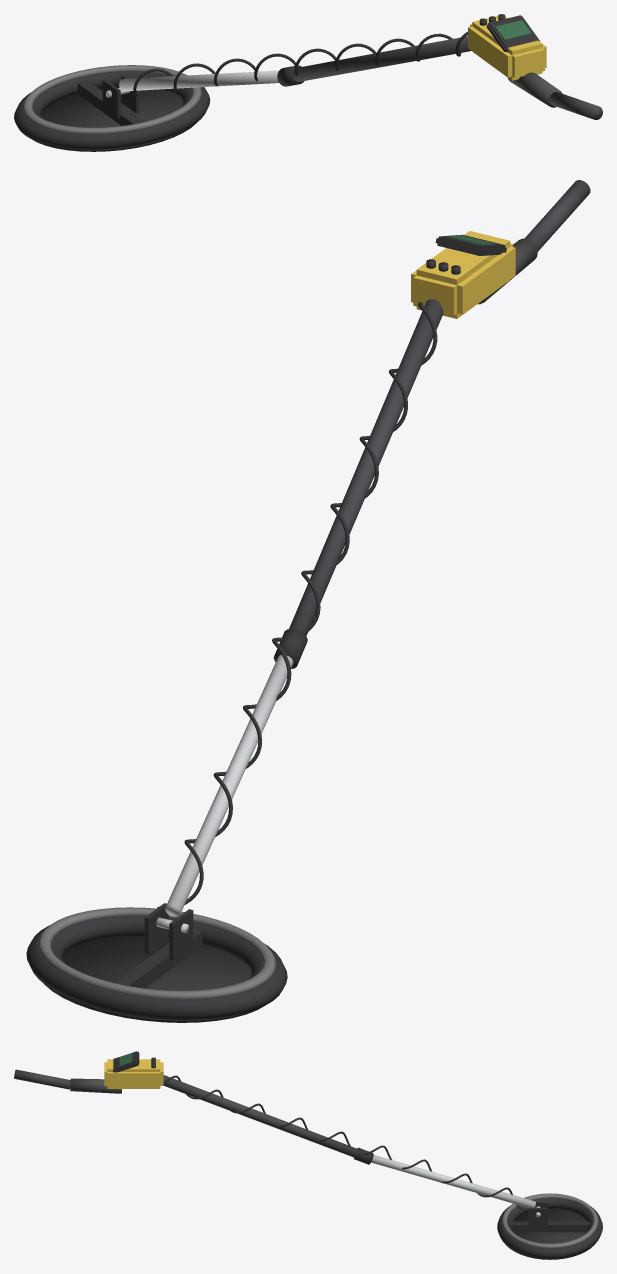
The model's file is detector.glb.
3 renders of one model, top to bottom at view 1: azimuth 30°, elevation 25°; view 2: azimuth 150°, elevation 25°; view 3: azimuth 270°, elevation 25°, orthographic. The views are drawn at different scales.
Visible parts, largest first — view 1: detector, Torus.001, screen; view 2: detector, Torus.001; view 3: detector, Torus.001.
Part boxes in pixels (left/top/right/bottom): detector: left=14, top=14, right=602, bottom=151; Torus.001: left=22, top=65, right=201, bottom=133; screen: left=495, top=20, right=531, bottom=40; detector: left=26, top=180, right=590, bottom=1022; Torus.001: left=37, top=907, right=276, bottom=998; detector: left=14, top=1051, right=602, bottom=1259; Torus.001: left=502, top=1193, right=598, bottom=1247.
Size of the model in its own units: 0.3715 by 0.5666 by 1.49.
